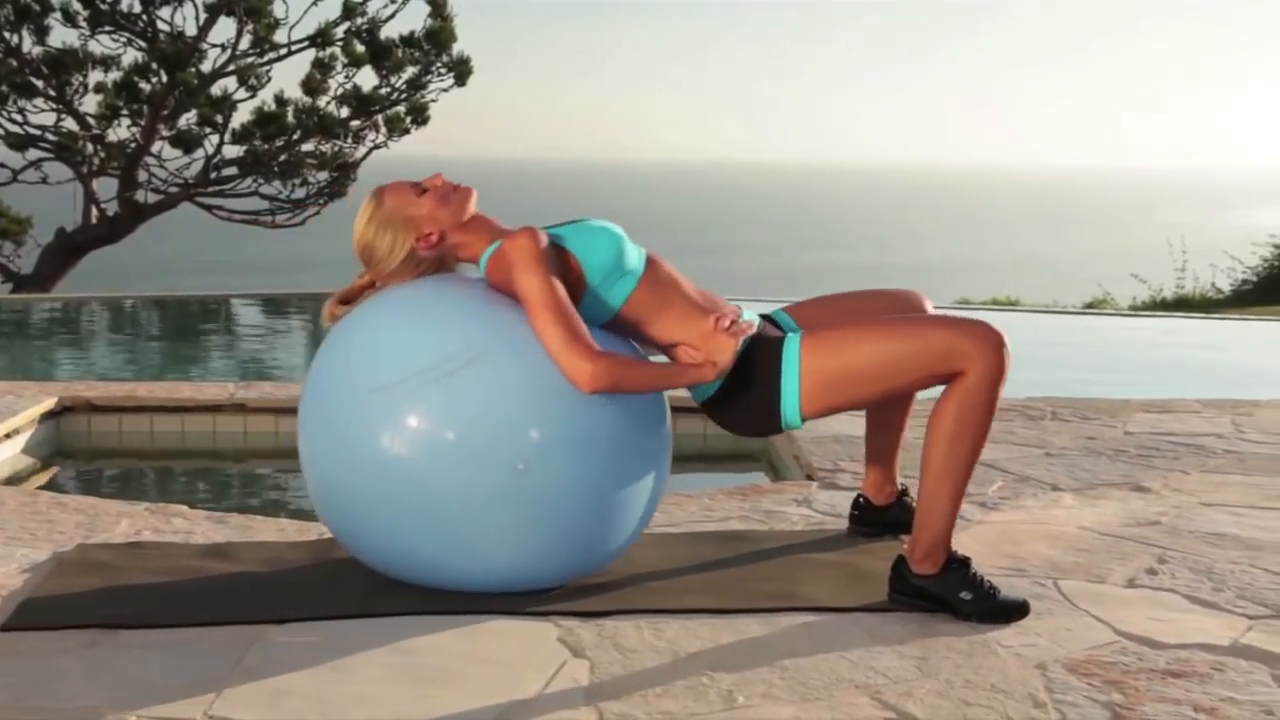yogaball: (287, 265, 680, 601)
